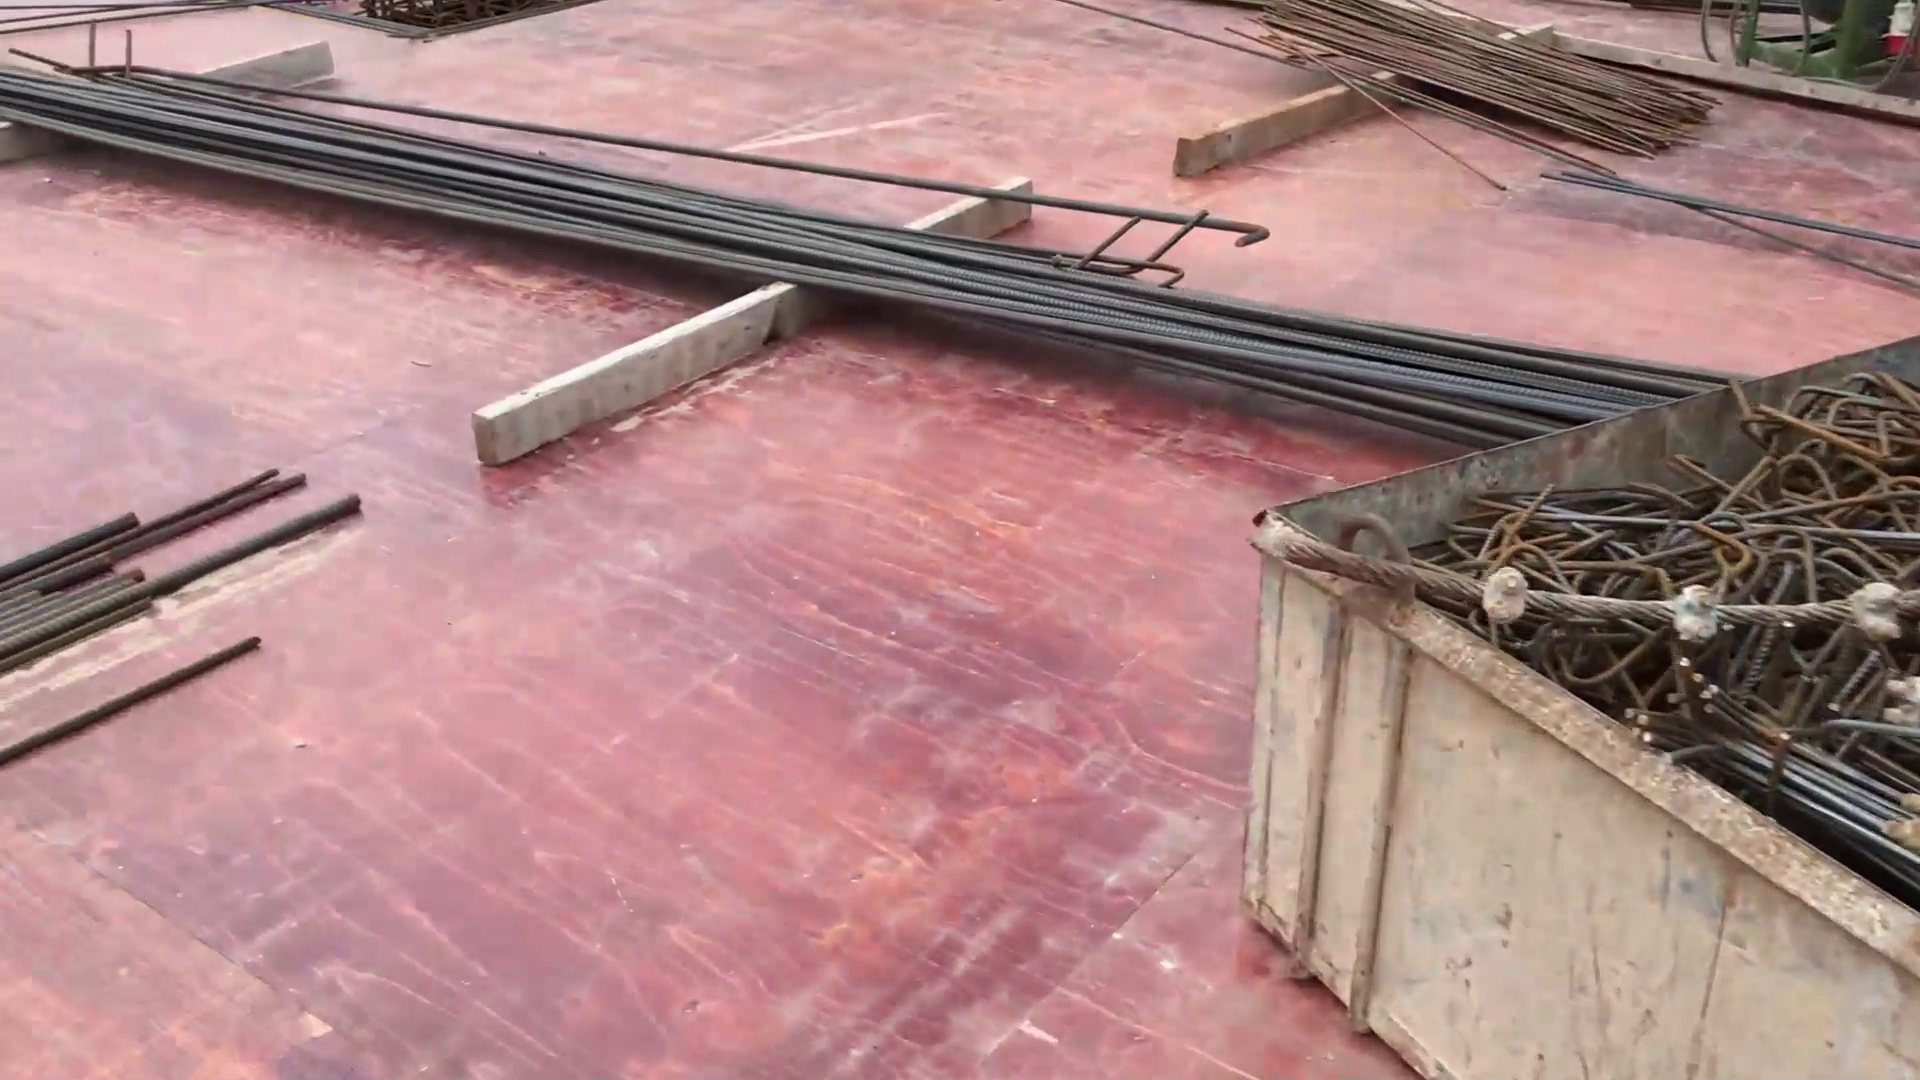hopper: (1164, 177, 1905, 1080)
rebar: (15, 12, 1617, 446)
